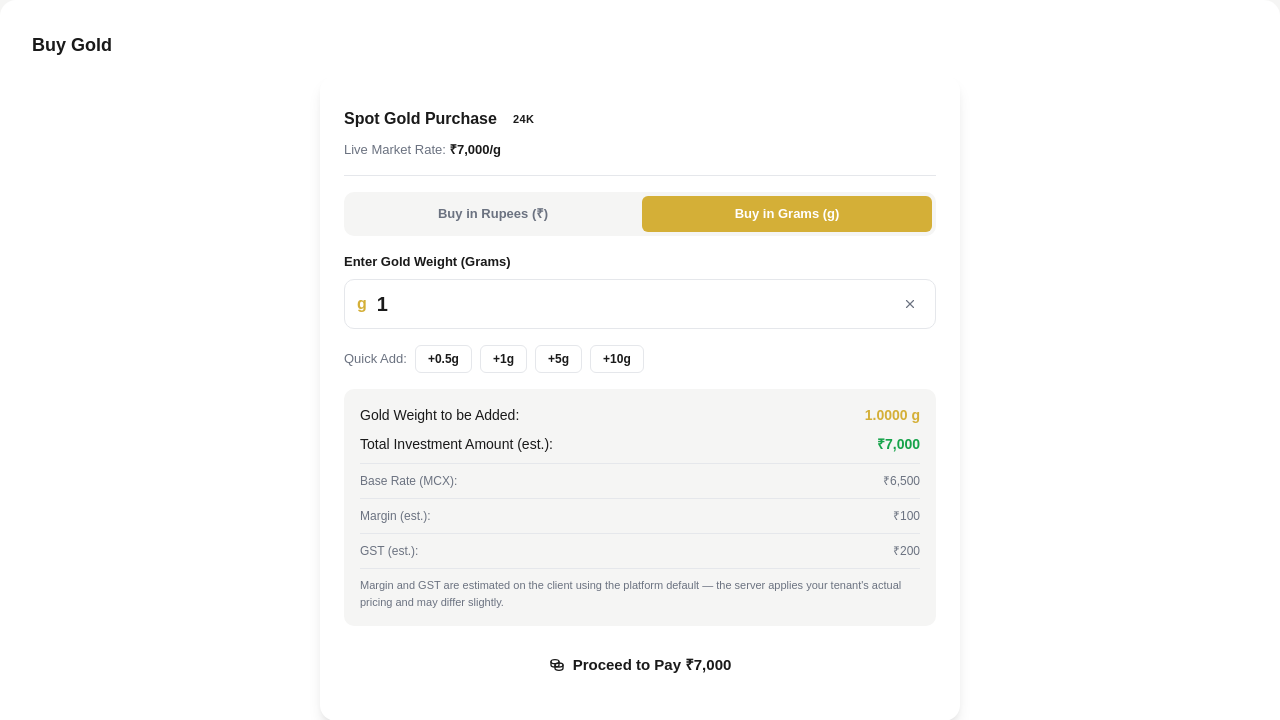
BuyGold KYC limit message › links to the KYC status page while verification is pending
Step 1. Replace the text in the field labelled "Enter Gold Weight (Grams)" with "10" → [632, 304], box [375,288,889,320]
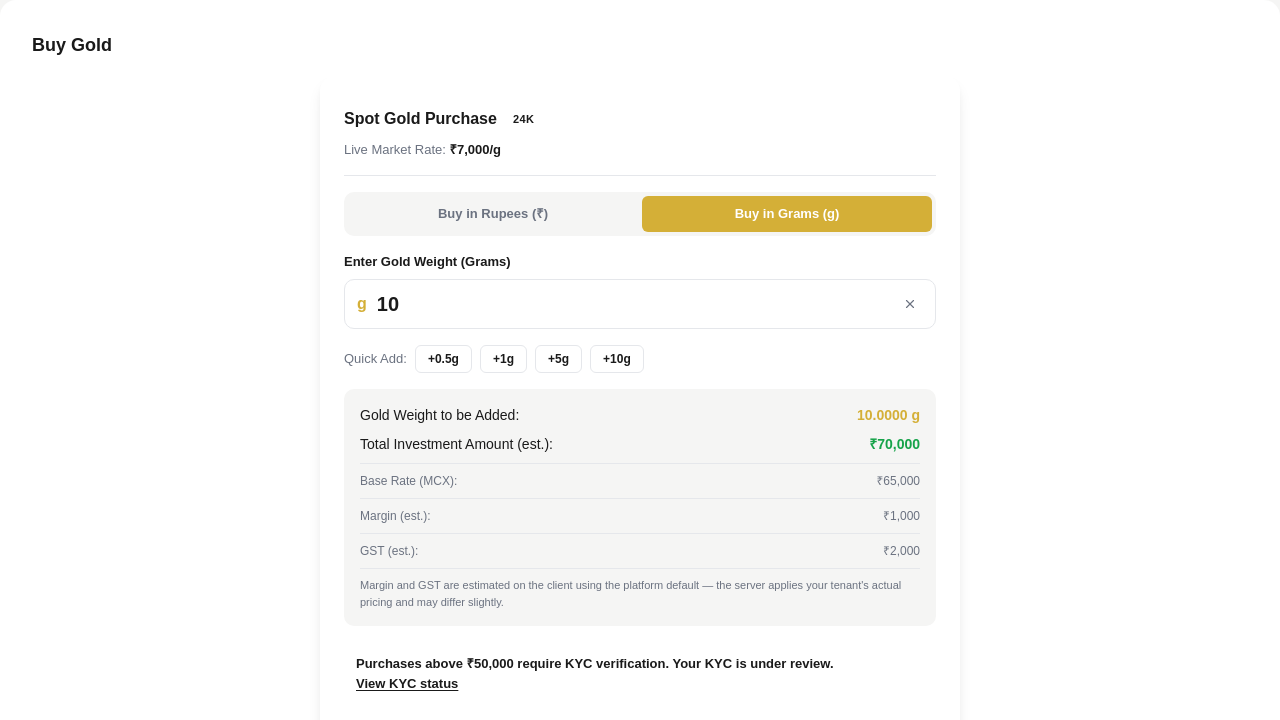
Expected: the text "Your KYC is under review" is shown, [672,656,834,671]
